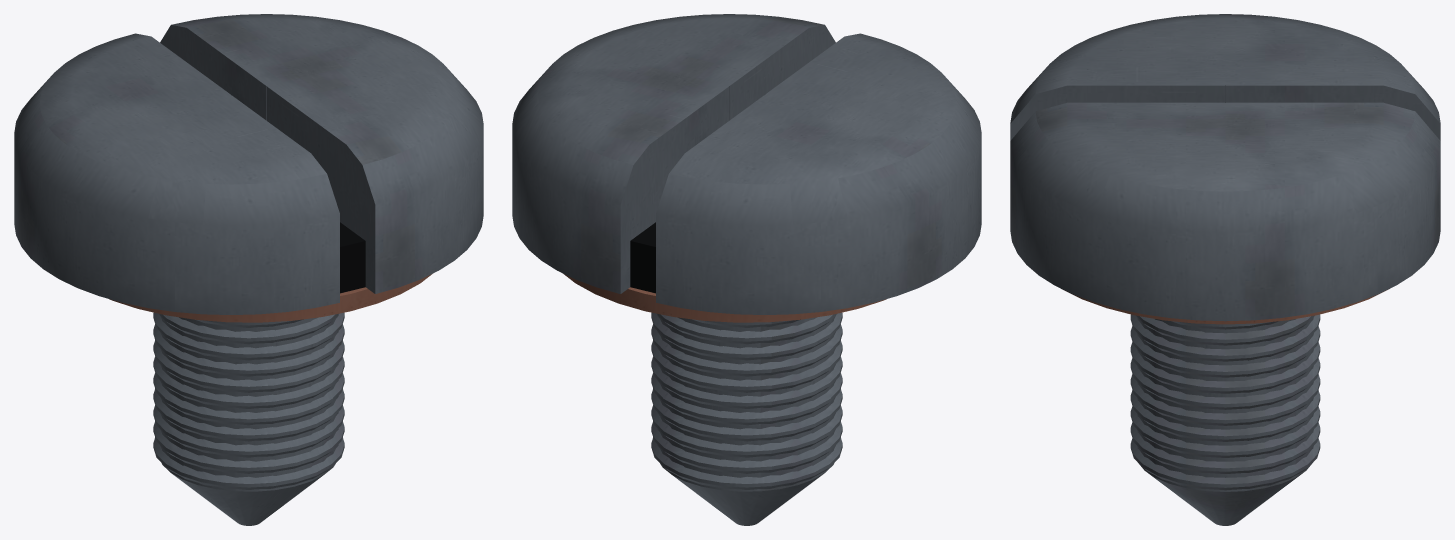
The model's file is screw.glb.
The picture shows the model from 3 angles, left to right: view 1: azimuth 30°, elevation 25°; view 2: azimuth 150°, elevation 25°; view 3: azimuth 270°, elevation 25°; orthographic projection.
Visible parts, largest first — view 1: ScrewBody; view 2: ScrewBody; view 3: ScrewBody.
Part boxes in pixels (x1,y1,x2,y2): ScrewBody: (14, 14, 483, 525); ScrewBody: (512, 14, 981, 525); ScrewBody: (1010, 14, 1440, 525).
Bounding box in the file's own units: 0.744 × 0.743 × 0.68.
3 materials, 2 textured.
